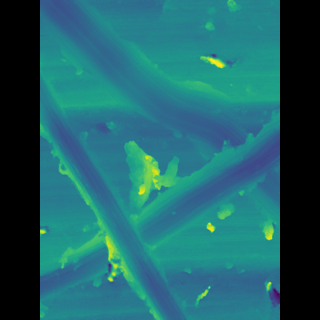Loch: (70, 0, 251, 226), (69, 107, 249, 303), (67, 69, 182, 319)
